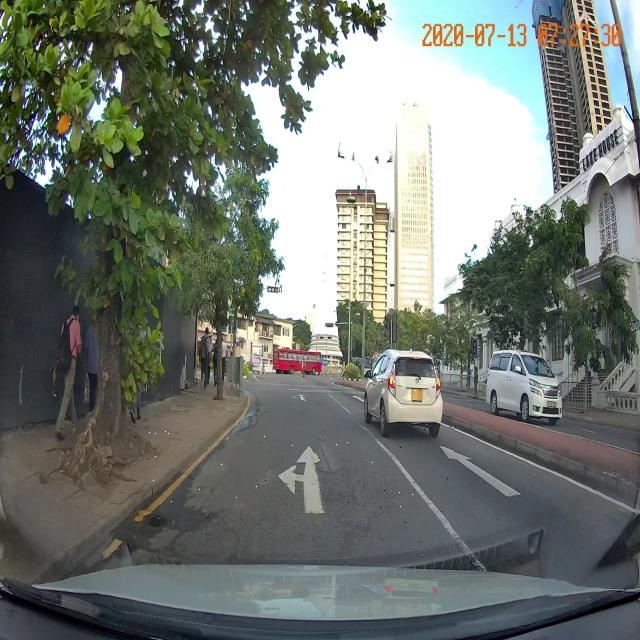forward_lft: (129, 427, 453, 524)
